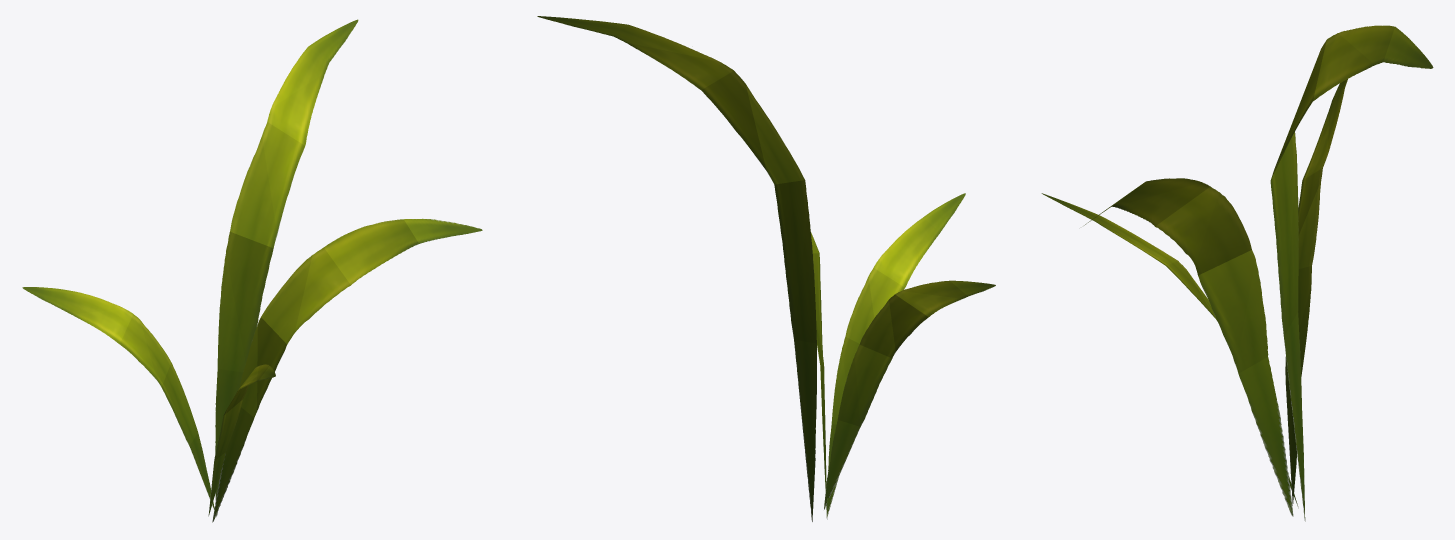
Rendered from outdoorM_grass_c.FBX.
The picture shows the model from 3 angles, left to right: view 1: azimuth 30°, elevation 25°; view 2: azimuth 150°, elevation 25°; view 3: azimuth 270°, elevation 25°; orthographic projection. The views are drawn at different scales.
Parts seen in each view (by area): view 1: outdoorM_grass_c; view 2: outdoorM_grass_c; view 3: outdoorM_grass_c.
Part boxes in pixels (x1,y1,x2,y2): outdoorM_grass_c: (22, 19, 482, 522); outdoorM_grass_c: (537, 16, 995, 521); outdoorM_grass_c: (1041, 25, 1433, 521).
Bounding box in the file's own units: 2.75 × 2.96 × 1.85.
